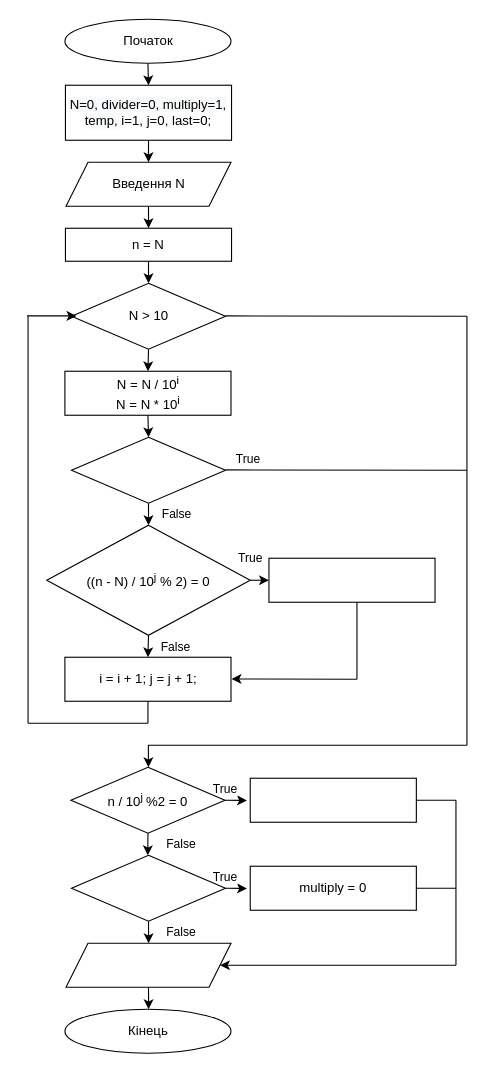
Some shapes in this 487 by 1073 pixel diagram are drawn without their labels. The shapes that lost their labels are listed below. From the top down, each one's box as (x1, y1, x2, y2) in pixels, then its label:
(70, 436, 226, 503): N = 0
(268, 557, 435, 602): multiply=multiply*(n - N)/10 j
(249, 777, 416, 822): multiply = multiply * n / 10 j
(70, 854, 226, 921): multiply = 1
(65, 942, 231, 987): Виведення multiply
